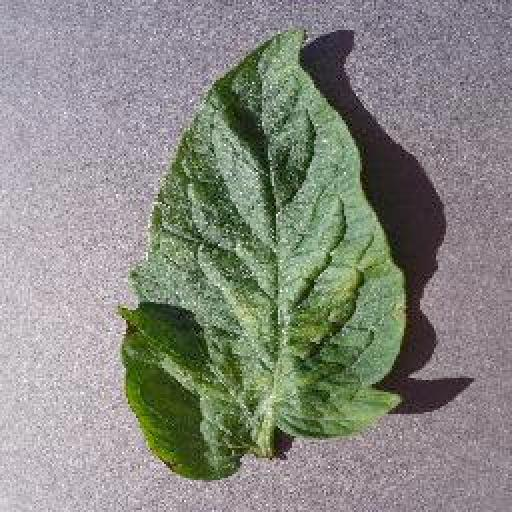disease_tomato: (116, 27, 408, 481)
